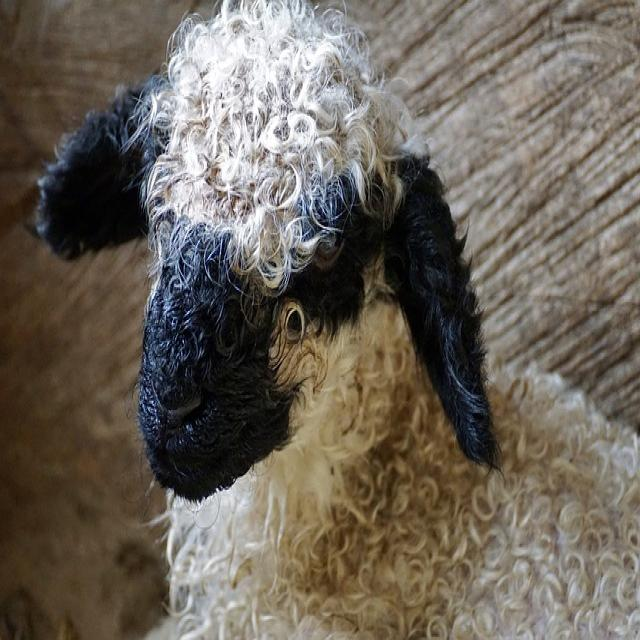goat: (35, 0, 640, 640)
